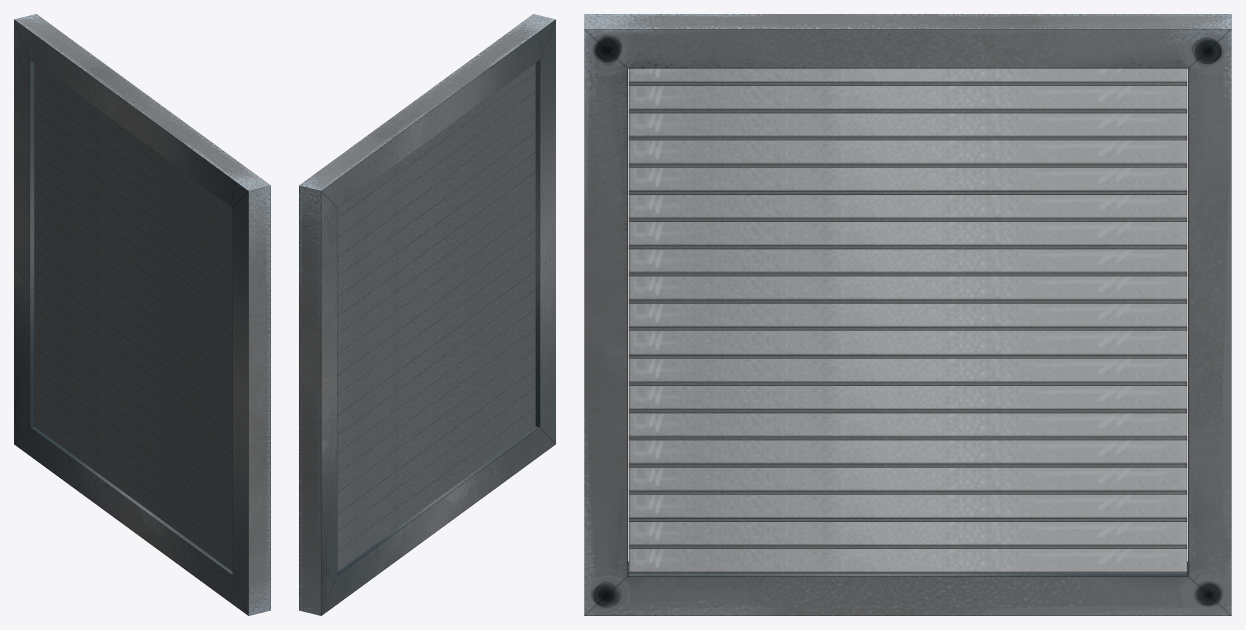
The model's file is Ventila.fbx.
The picture shows the model from 3 angles, left to right: view 1: azimuth 30°, elevation 25°; view 2: azimuth 150°, elevation 25°; view 3: azimuth 270°, elevation 25°; orthographic projection. The views are drawn at different scales.
Parts seen in each view (by area): view 1: Ventila; view 2: Ventila; view 3: Ventila.
Part boxes in pixels (x1,y1,x2,y2): Ventila: (14, 14, 270, 615); Ventila: (299, 14, 555, 615); Ventila: (584, 14, 1231, 615).
Bounding box in the file's own units: 0.3567 × 6.48 × 6.48.
1 material, 1 textured.
